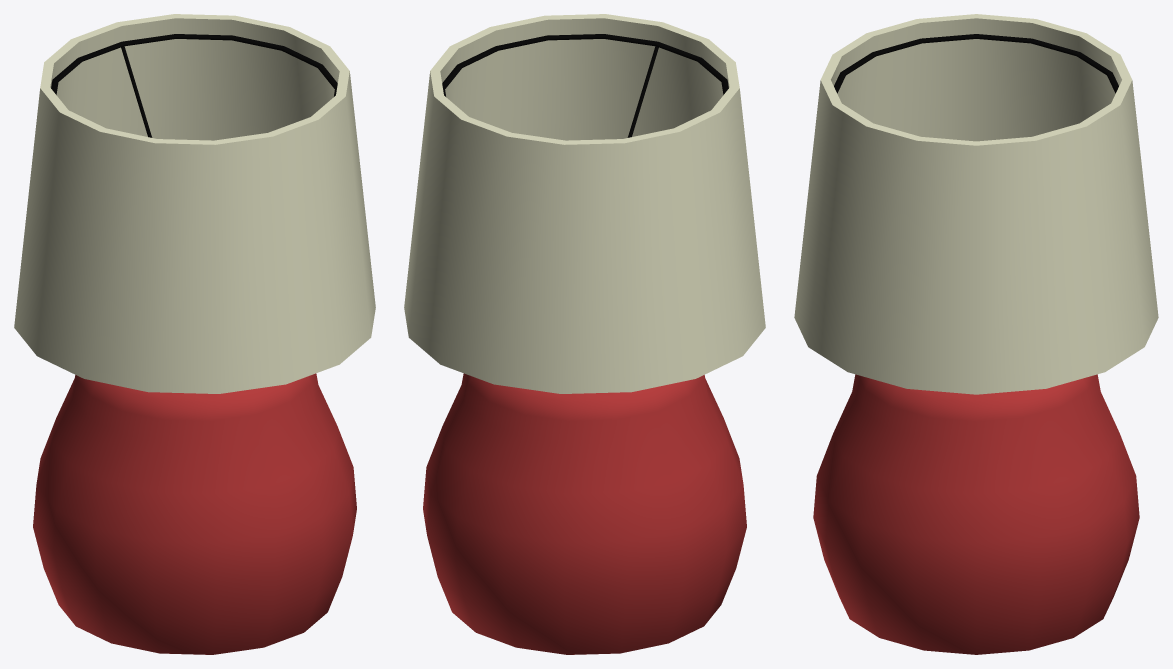
File: Lamp.fbx
3 renders of one model, left to right at view 1: azimuth 30°, elevation 25°; view 2: azimuth 150°, elevation 25°; view 3: azimuth 270°, elevation 25°, orthographic.
Parts seen in each view (by area): view 1: Lamp; view 2: Lamp; view 3: Lamp.
Boxes of the visible parts, <box> form: Lamp: <box>14,14,375,654</box>; Lamp: <box>404,14,765,654</box>; Lamp: <box>794,14,1158,654</box>.
Bounding box in the file's own units: 61.83 × 97.74 × 61.83.
